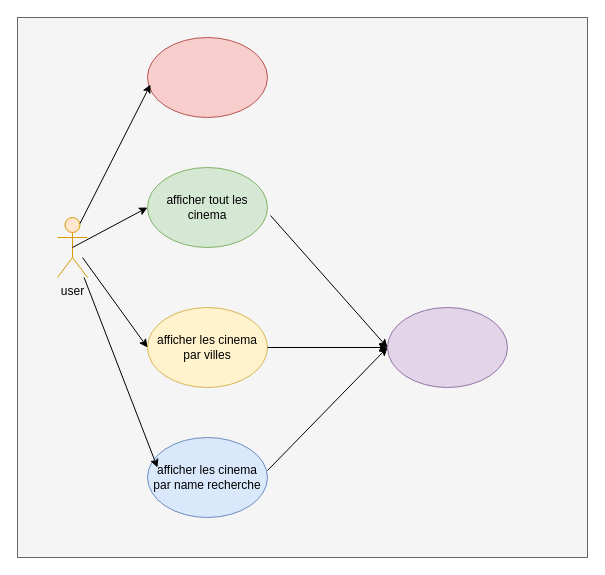
Image size: 605x575. Some labels were removed from this diagram. Here are the shapes that lost their labels. From the top down, the box of each, then its label:
(146, 36, 268, 118): se connecter
(386, 306, 508, 388): afficher les films par cinema
